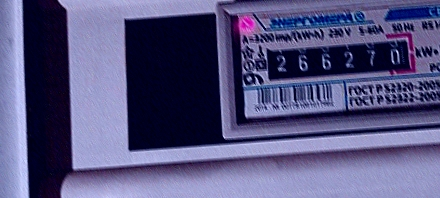0: (387, 46, 400, 64)
2: (272, 53, 286, 71), (341, 49, 353, 67)
6: (295, 52, 308, 71), (318, 51, 331, 70)
7: (364, 47, 376, 66)
screen: (254, 28, 420, 89)
